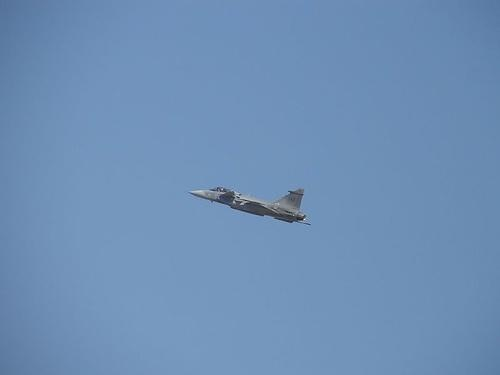aeroplane: (189, 186, 312, 230)
